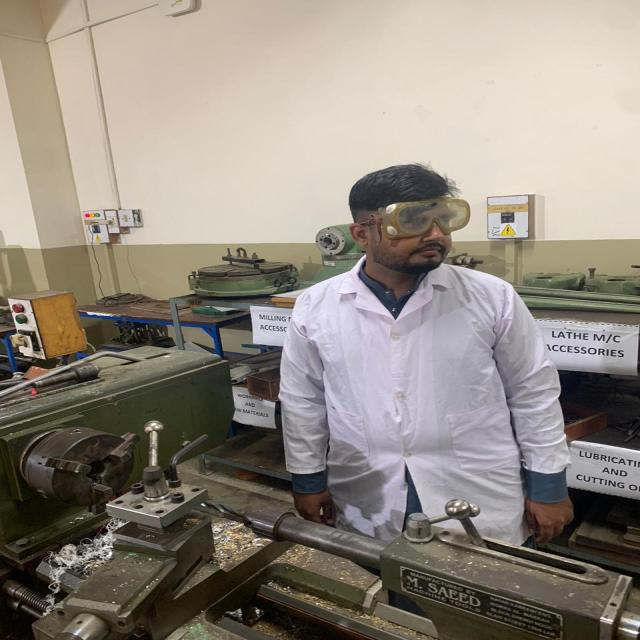googles: (379, 194, 472, 237)
labcoat: (276, 249, 576, 571)
